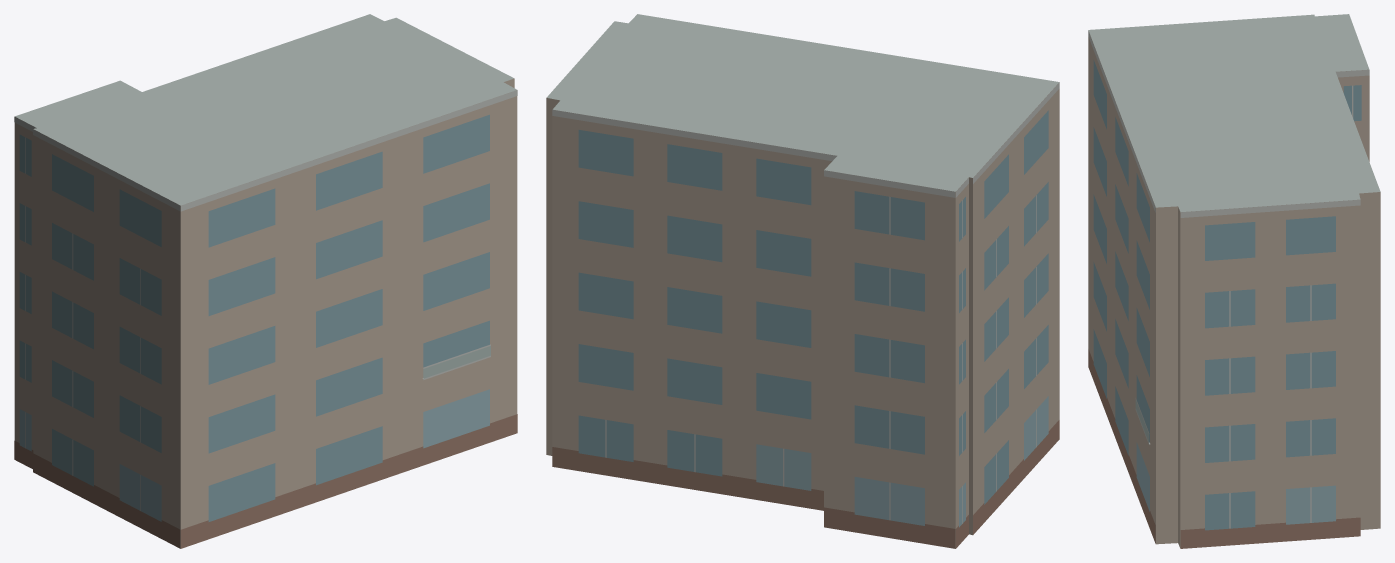
The model's file is survey-upis-32914112.glb.
3 views of the same model, side by side, from view 1: azimuth 30°, elevation 25°; view 2: azimuth 150°, elevation 25°; view 3: azimuth 270°, elevation 25° (orthographic). The views are drawn at different scales.
Visible parts, largest first — view 1: survey-upis-32914112.tmp; view 2: survey-upis-32914112.tmp; view 3: survey-upis-32914112.tmp.
Boxes of the visible parts, <box> form: survey-upis-32914112.tmp: <box>14,14,517,548</box>; survey-upis-32914112.tmp: <box>546,14,1059,548</box>; survey-upis-32914112.tmp: <box>1088,14,1380,548</box>.
Bounding box in the file's own units: 17.62 × 13.95 × 10.99.
